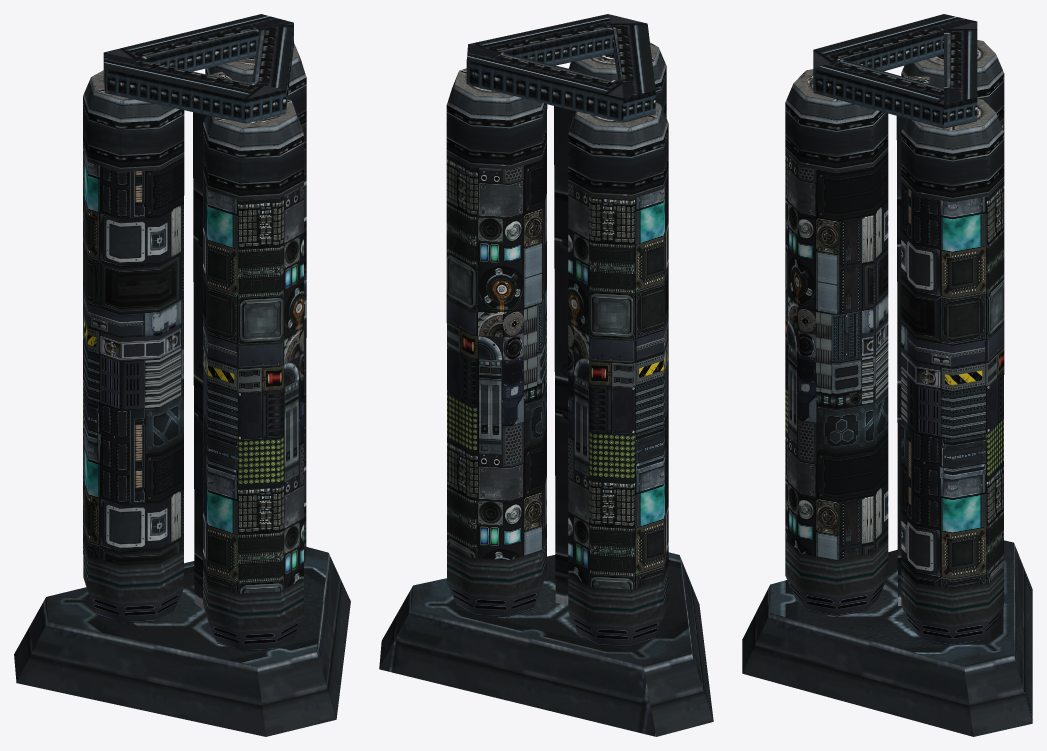
The model's file is Battery_large_05.FBX.
3 renders of one model, left to right at view 1: azimuth 30°, elevation 25°; view 2: azimuth 150°, elevation 25°; view 3: azimuth 270°, elevation 25°, orthographic.
Parts seen in each view (by area): view 1: Liquid, Battery_large_05; view 2: Battery_large_05, Liquid; view 3: Liquid, Battery_large_05.
Boxes of the visible parts, x1=… form: Liquid: x1=83, y1=127, x2=306, y2=593; Battery_large_05: x1=14, y1=14, x2=350, y2=736; Battery_large_05: x1=379, y1=14, x2=713, y2=736; Liquid: x1=446, y1=115, x2=668, y2=589; Liquid: x1=785, y1=122, x2=1004, y2=589; Battery_large_05: x1=742, y1=14, x2=1032, y2=736.
Bounding box in the file's own units: 212 × 368 × 162.
